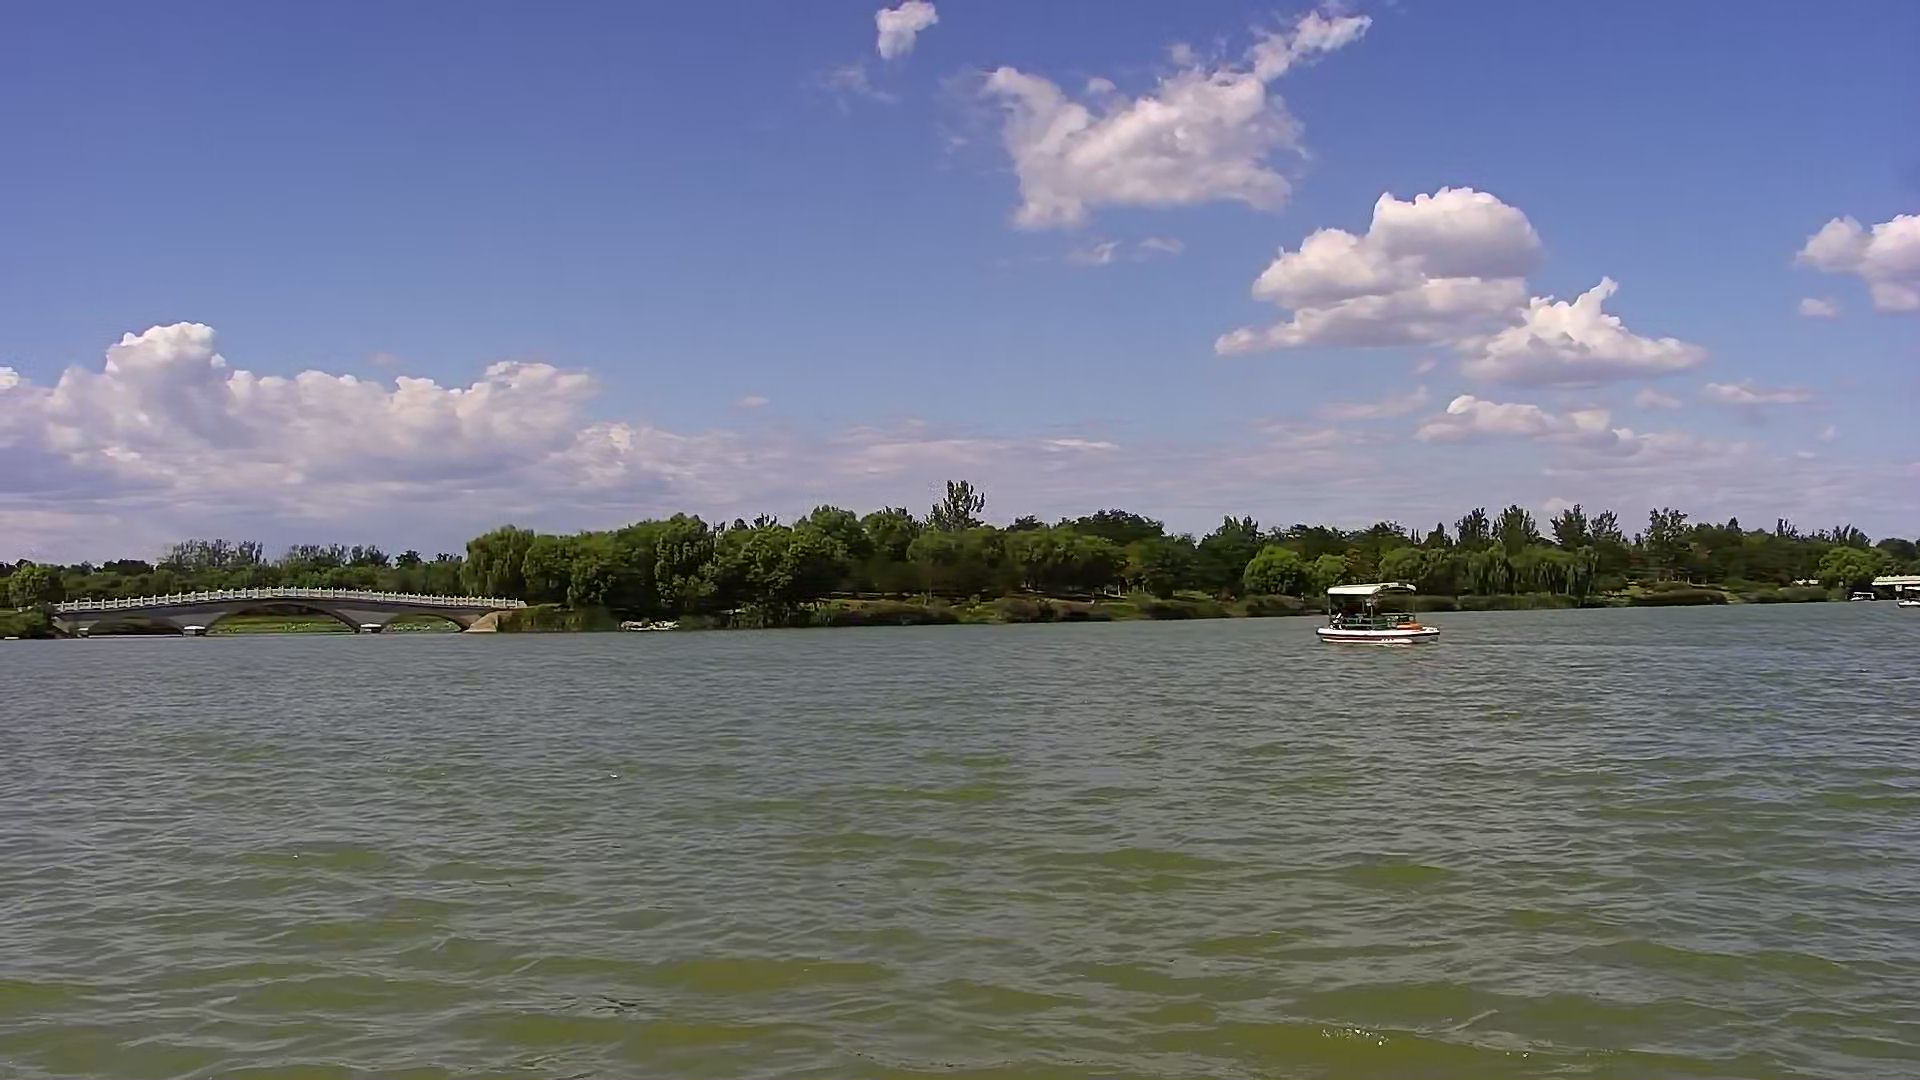boat: (1317, 580, 1436, 645)
bridge: (65, 585, 496, 637), (1873, 574, 1919, 600)
